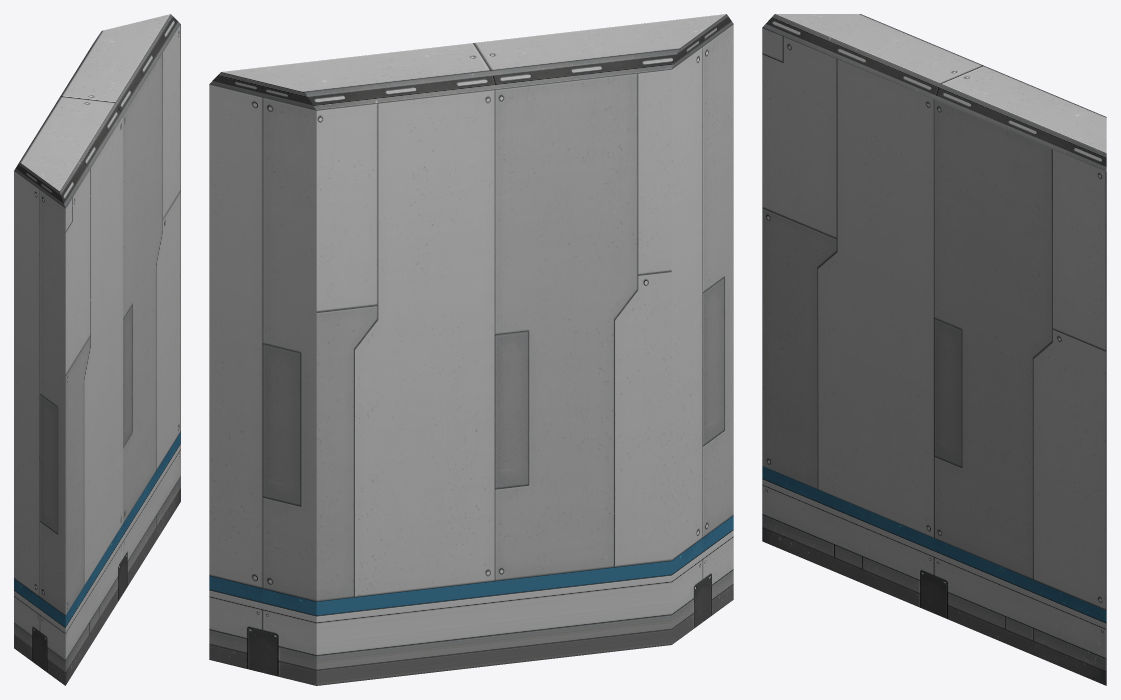
Rendered from Ext_Wall_Corner_01.FBX.
3 renders of one model, left to right at view 1: azimuth 30°, elevation 25°; view 2: azimuth 150°, elevation 25°; view 3: azimuth 270°, elevation 25°, orthographic. The views are drawn at different scales.
Parts seen in each view (by area): view 1: Ext_Wall_Corner_01; view 2: Ext_Wall_Corner_01; view 3: Ext_Wall_Corner_01.
Boxes of the visible parts, x1,y1,x2,y2 form: Ext_Wall_Corner_01: (14,14,180,685); Ext_Wall_Corner_01: (209,14,733,685); Ext_Wall_Corner_01: (762,14,1106,685).
Bounding box in the file's own units: 247 × 420 × 248.
